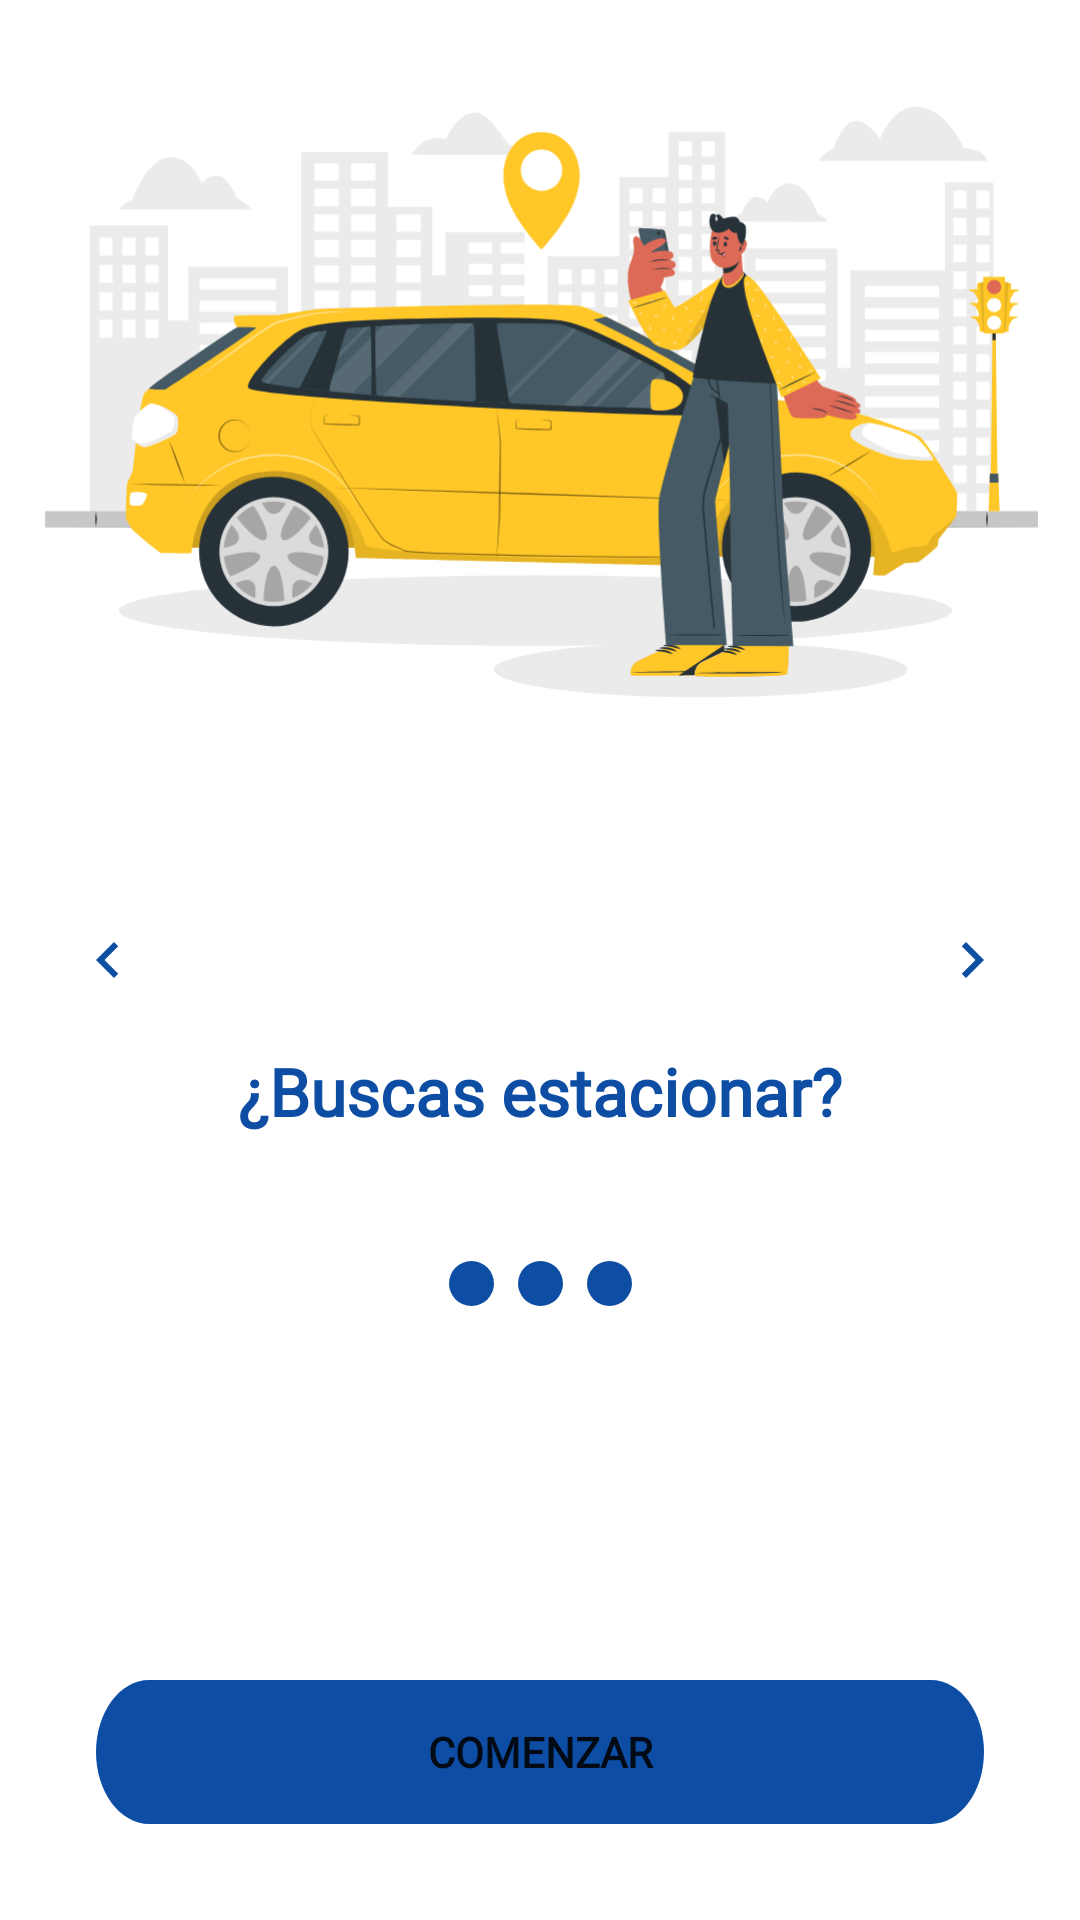

Icon bounding boxes for this 1080w x 1920h phone screenshot, format (x1, y1, x2, y2):
previo: (96, 942, 118, 978)
siguiente: (962, 942, 984, 978)
